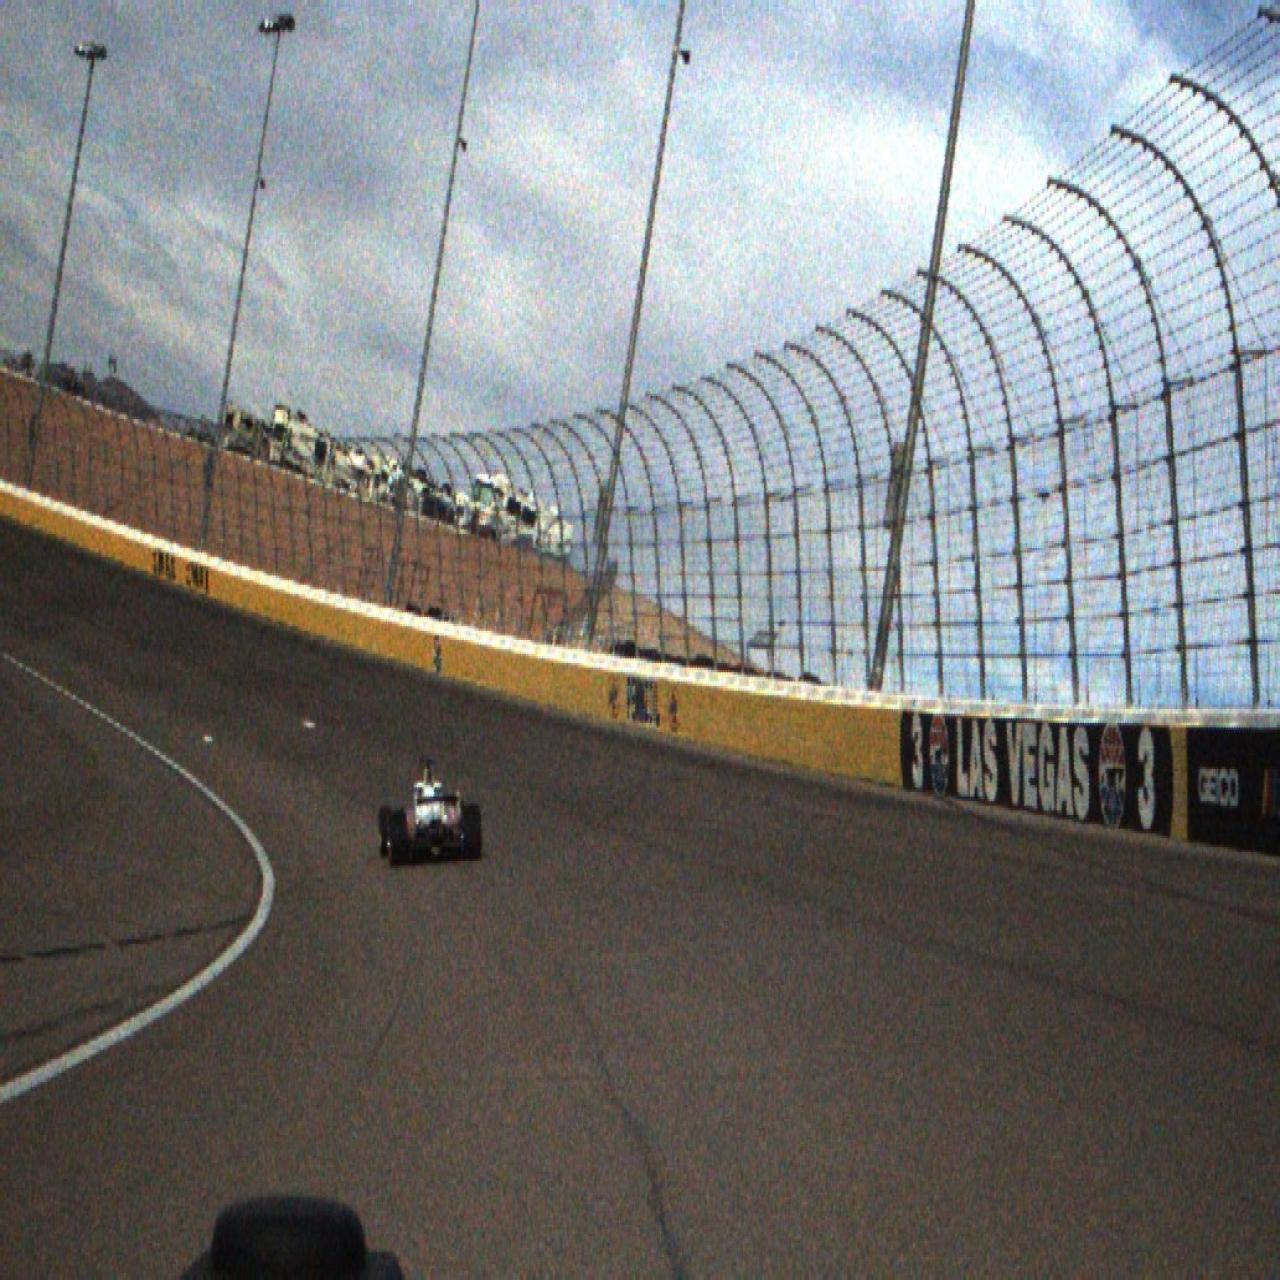AV: (377, 754, 483, 866)
Wheel: (388, 812, 409, 866), (463, 805, 483, 860), (377, 806, 392, 859)
